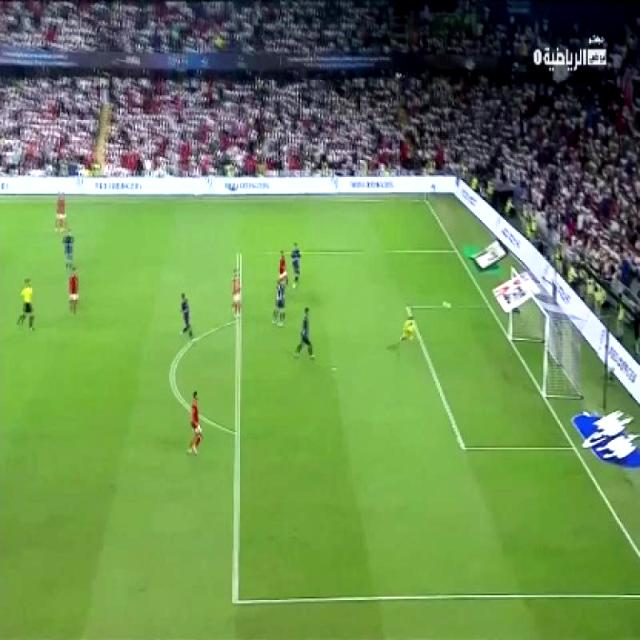bigarea_bottom_inner: (228, 588, 242, 610)
bigarea_top_inner: (234, 248, 248, 263)
bigarea_top_outter: (452, 242, 460, 255)
bottom_arc_area_intersection: (228, 423, 245, 442)
corner: (420, 197, 428, 203)
smallarea_bottom_inner: (455, 435, 470, 457)
smallarea_bottom_outter: (567, 437, 580, 458)
smallarea_top_inner: (399, 300, 418, 316)
smallarea_top_outter: (478, 299, 502, 315)
top_arc_area_intersection: (228, 313, 243, 331)
